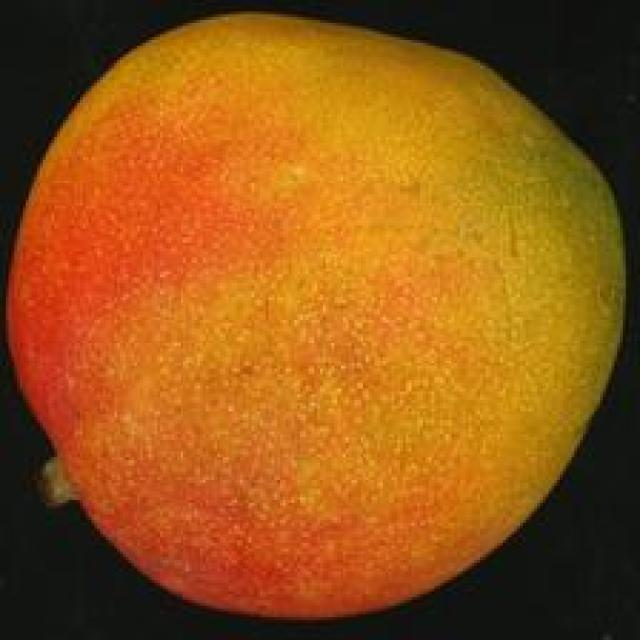Good_Mango: (3, 11, 626, 623)
